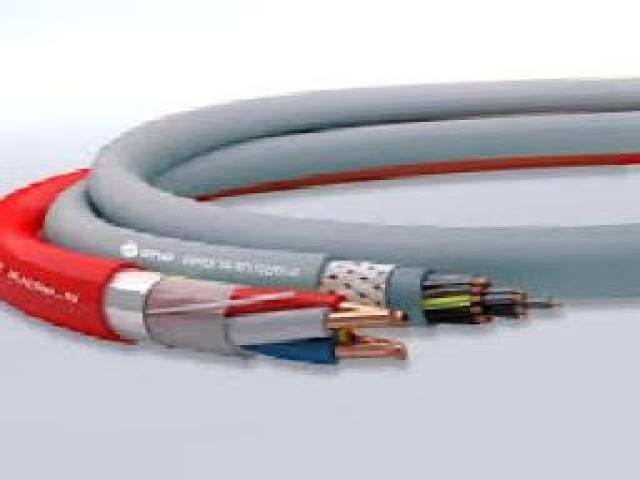wire: (0, 79, 640, 363)
